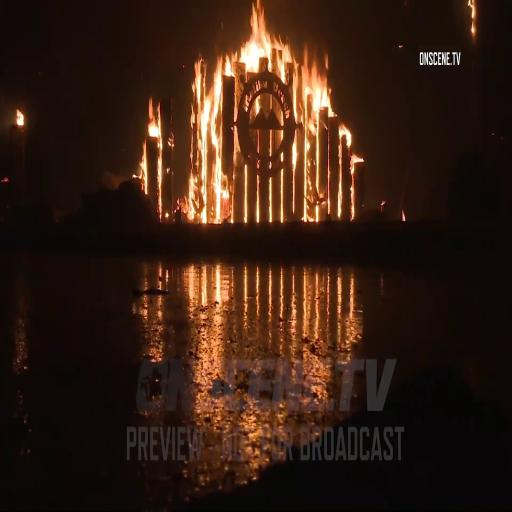fire: (193, 62, 235, 210), (298, 62, 330, 214)
